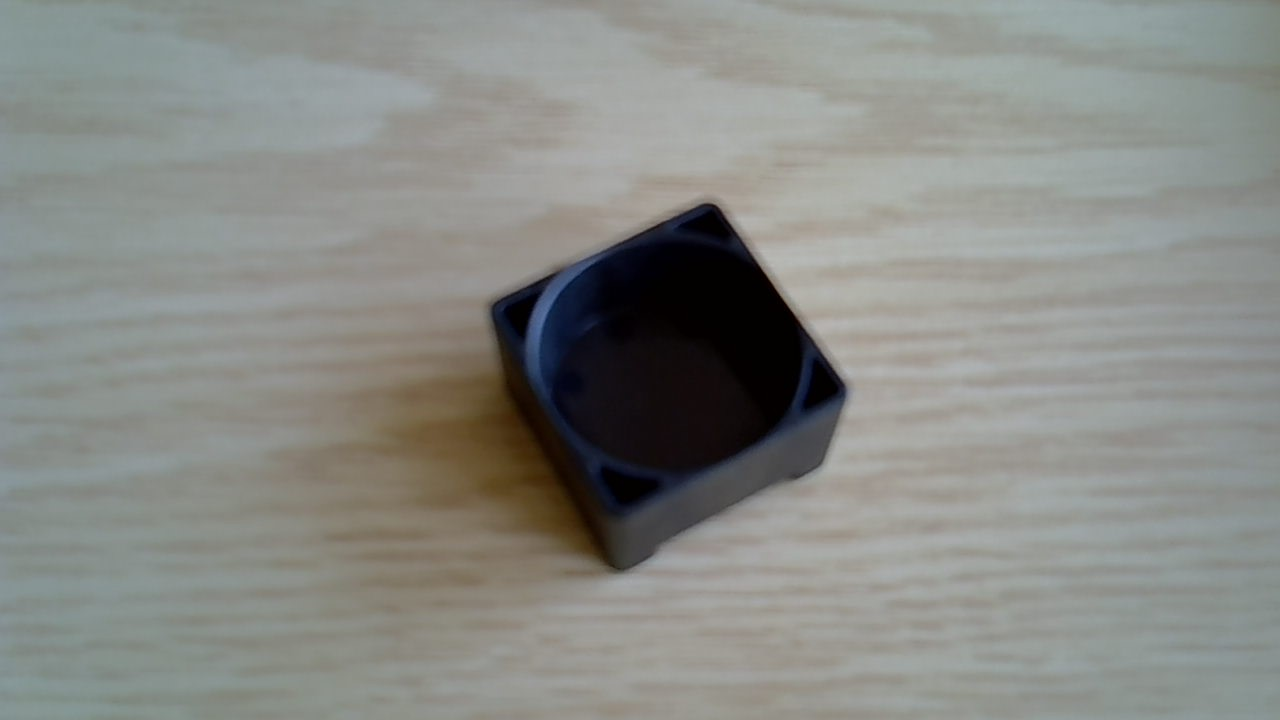Behaelter: (486, 204, 845, 577)
